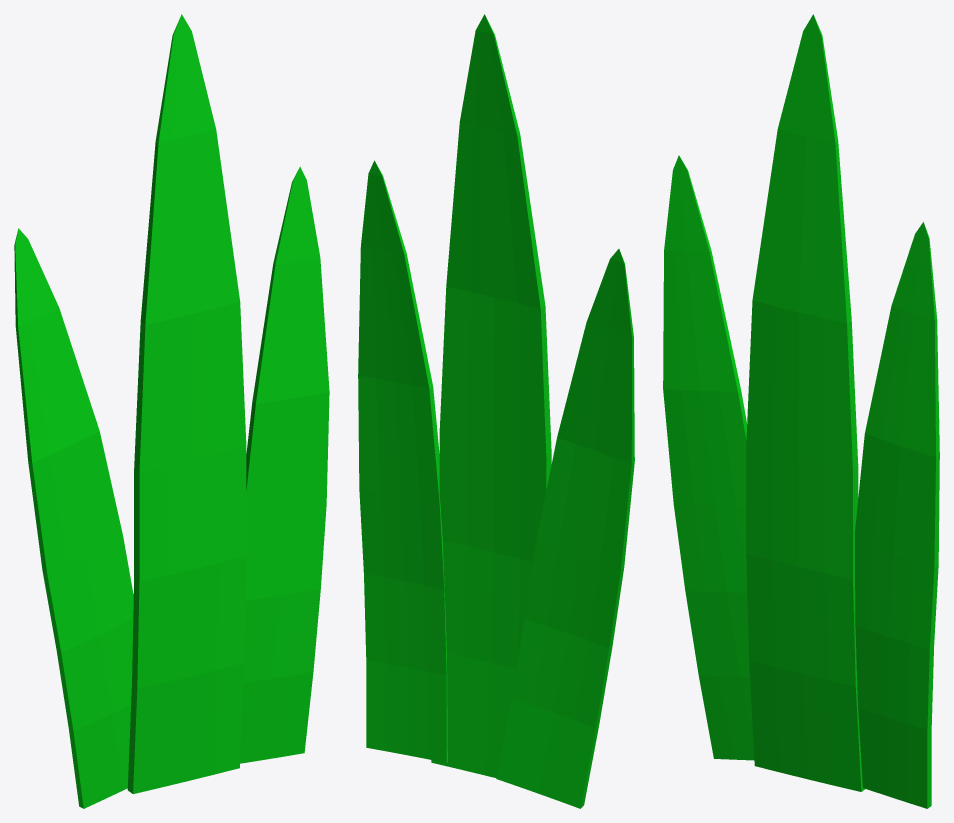
File: grass_1.glb
The picture shows the model from 3 angles, left to right: view 1: azimuth 30°, elevation 25°; view 2: azimuth 150°, elevation 25°; view 3: azimuth 330°, elevation 25°; orthographic projection.
Parts seen in each view (by area): view 1: Cube.002; view 2: Cube.002; view 3: Cube.002.
Boxes of the visible parts, x1,y1,x2,y2 form: Cube.002: (14, 14, 329, 808); Cube.002: (358, 14, 634, 808); Cube.002: (663, 14, 939, 808).
Size of the model in its own units: 6.47 by 16.29 by 1.06.
